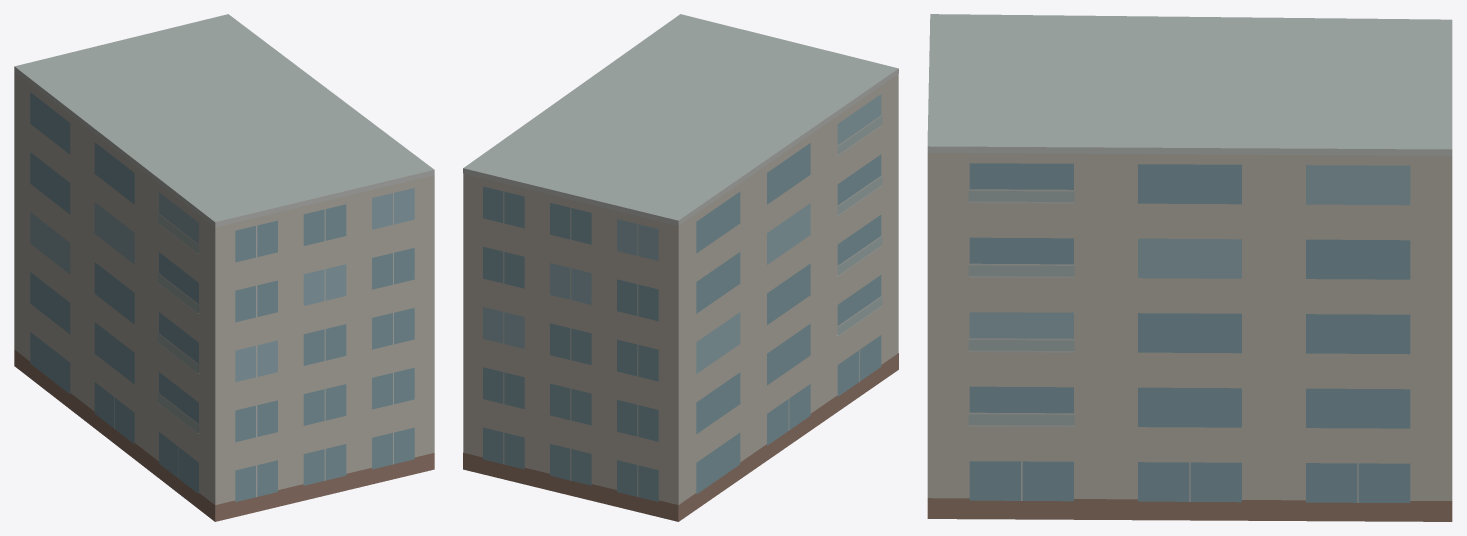
The model's file is survey-upis-32823878.glb.
3 renders of one model, left to right at view 1: azimuth 30°, elevation 25°; view 2: azimuth 150°, elevation 25°; view 3: azimuth 270°, elevation 25°, orthographic. The views are drawn at different scales.
Parts seen in each view (by area): view 1: survey-upis-32823878.tmp; view 2: survey-upis-32823878.tmp; view 3: survey-upis-32823878.tmp.
Part boxes in pixels (left/top/right/bottom): survey-upis-32823878.tmp: left=14, top=14, right=434, bottom=521; survey-upis-32823878.tmp: left=463, top=14, right=898, bottom=521; survey-upis-32823878.tmp: left=927, top=14, right=1452, bottom=521.
Size of the model in its own units: 10.93 by 14 by 17.9.
